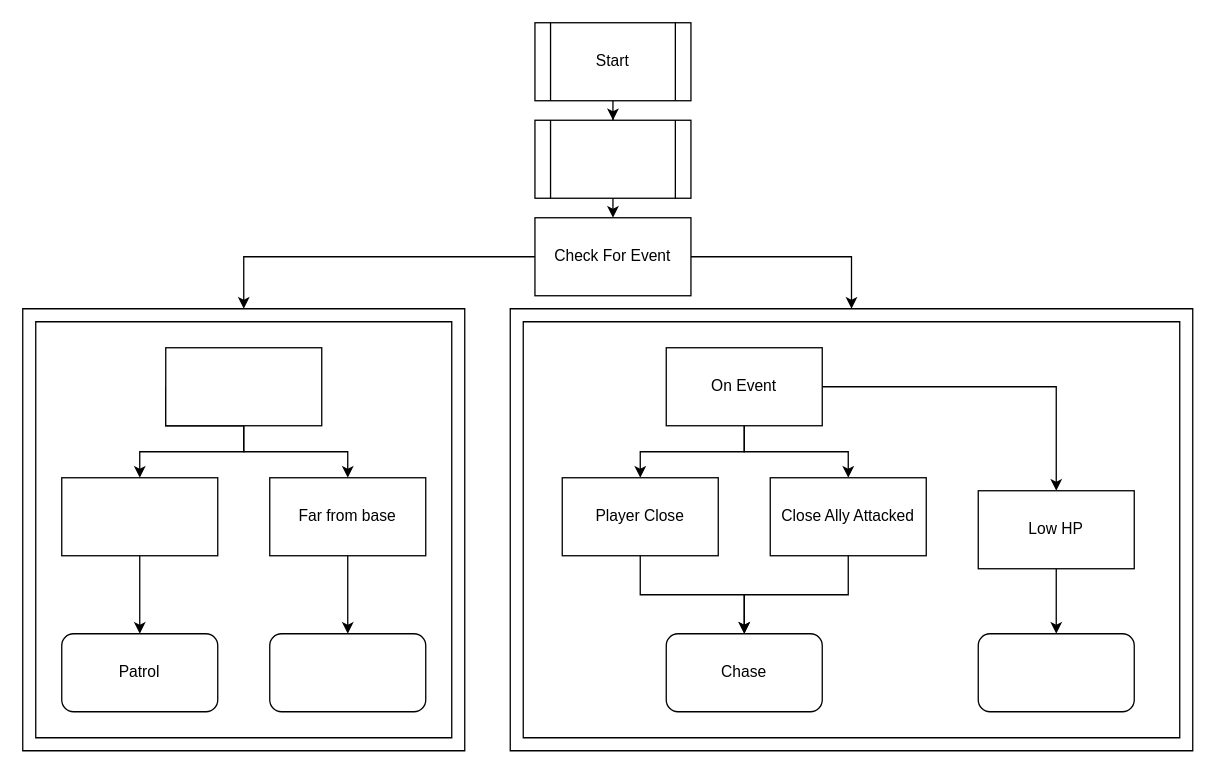
The diagram is 1216 pixels wide and 774 high, and some of its shapes have lost their labels. Each missing label, with the centre of its shape:
Close to base: [139,516]
Explore: [347,672]
Flee: [1055,672]
Update: [612,158]
Without Event: [243,386]
